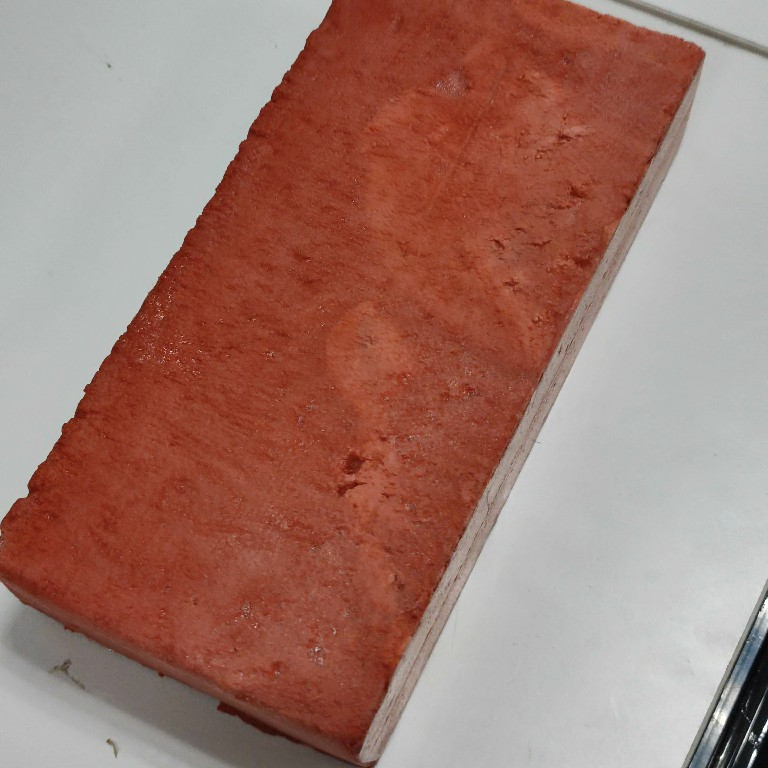brick: (1, 1, 718, 768)
